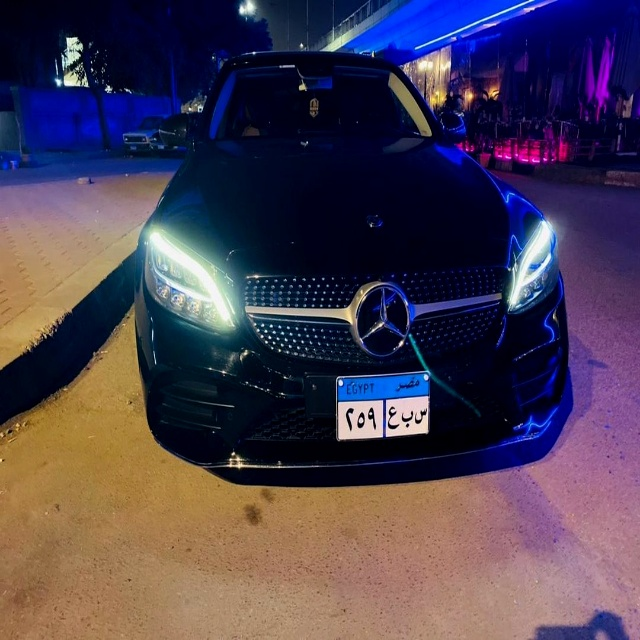License Plate: (335, 370, 430, 444)
